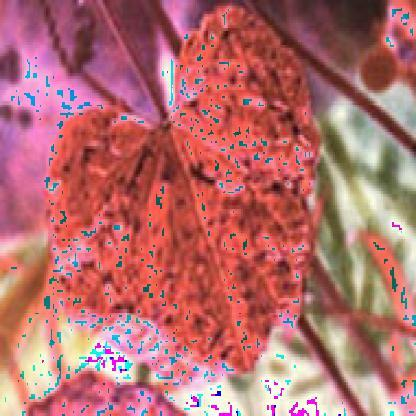Tomato leaf yellow virus: (50, 26, 318, 382)
